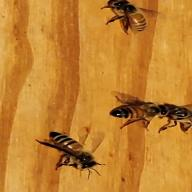Bee: (32, 127, 114, 178), (105, 91, 192, 132), (102, 0, 161, 37)
